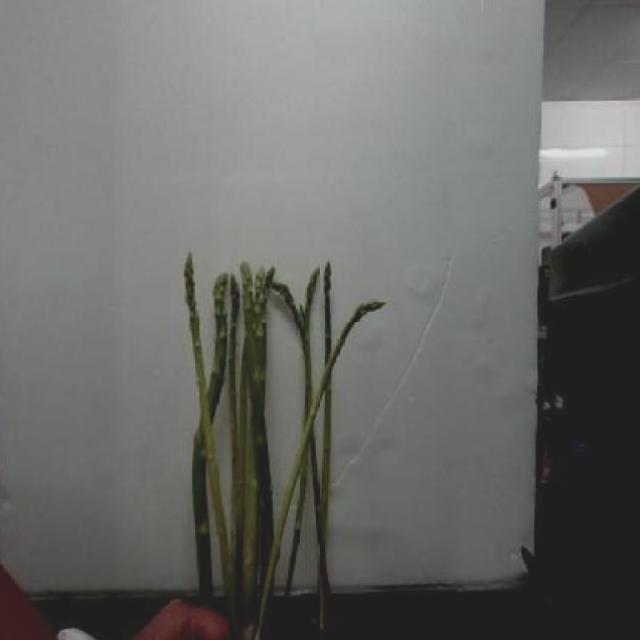aspargus: (252, 299, 385, 640), (184, 251, 248, 633)
